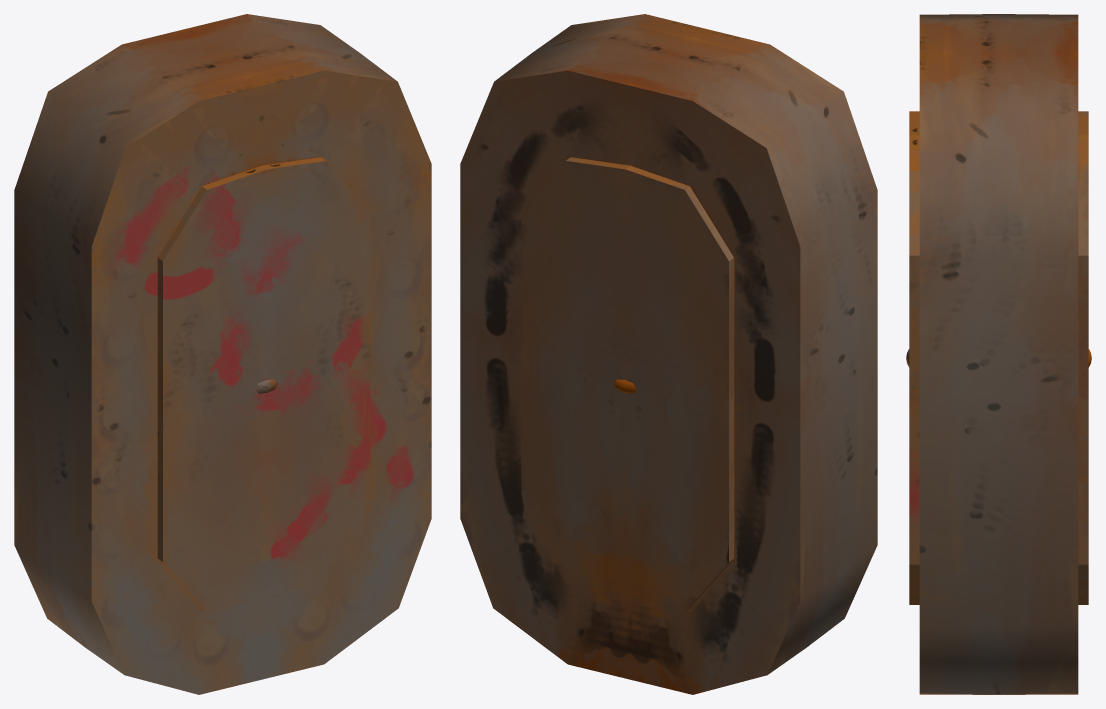
File: Door.fbx
3 views of the same model, side by side, from view 1: azimuth 30°, elevation 25°; view 2: azimuth 150°, elevation 25°; view 3: azimuth 270°, elevation 25° (orthographic). The views are drawn at different scales.
Parts seen in each view (by area): view 1: Door_Frame; view 2: Door_Frame; view 3: Door_Frame.
Boxes of the visible parts, x1,y1,x2,y2 form: Door_Frame: (14, 14, 431, 694); Door_Frame: (460, 14, 877, 694); Door_Frame: (909, 14, 1088, 694).
Bounding box in the file's own units: 391 × 652 × 180.
Materials: 1 (1 with a texture image).
